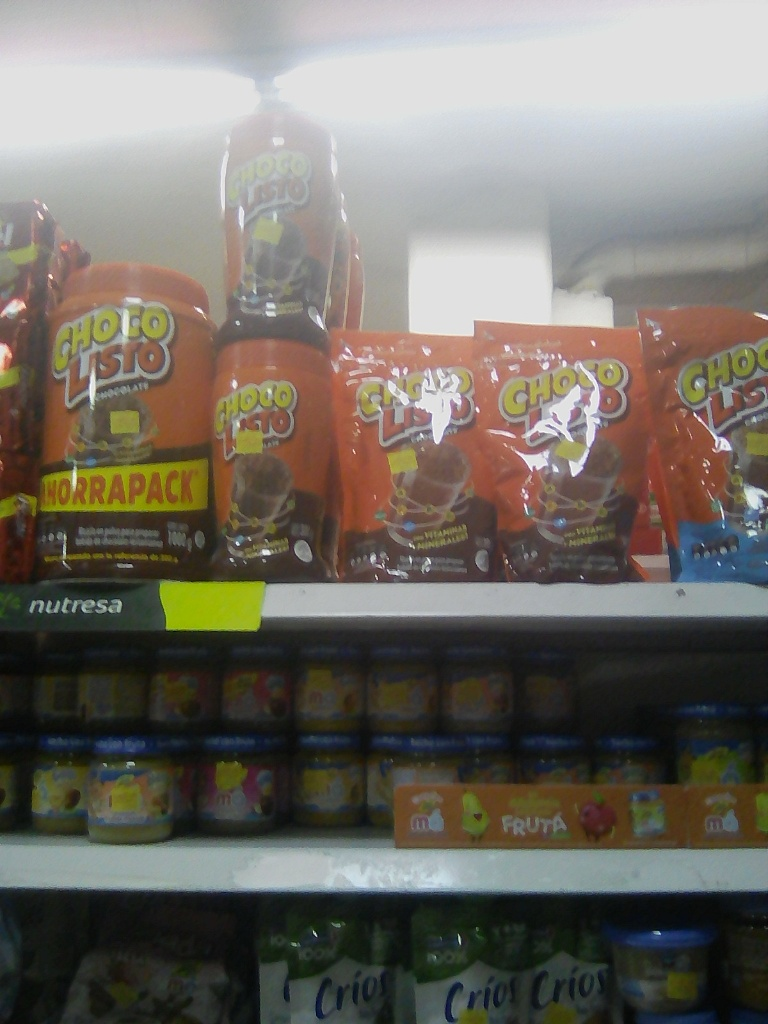COL0170103DYP1,500: (91, 543, 409, 958)
COL0170103DYP36000: (291, 144, 567, 520)
COL0170104DYP20000: (389, 692, 580, 946)
COL0170203DYP10000: (589, 738, 739, 936)
COL0170205DYP50000: (551, 167, 768, 504)
